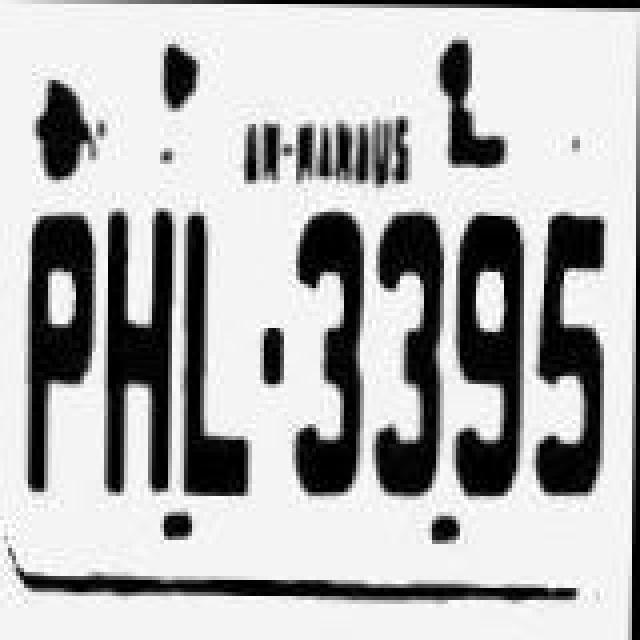3: (374, 210, 458, 502), (290, 210, 374, 502)
5: (530, 210, 622, 498)
9: (450, 212, 534, 504)
H: (98, 208, 182, 500)
L: (176, 210, 264, 498)
P: (16, 214, 104, 498)
